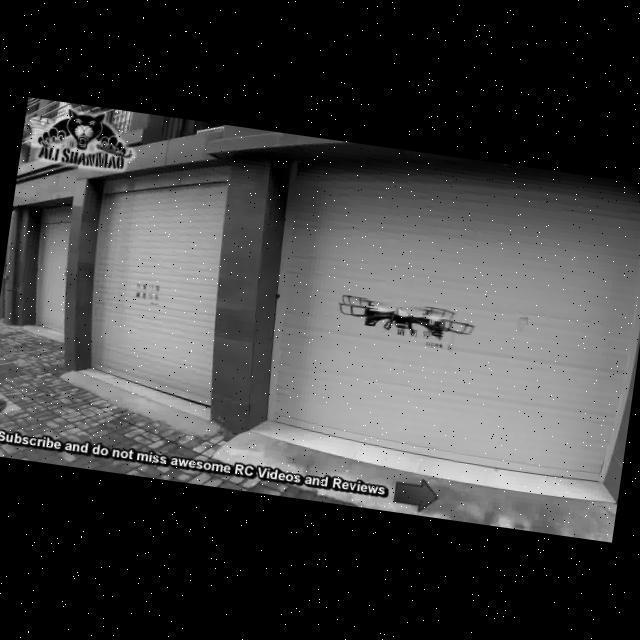Drons: (324, 270, 486, 358)
